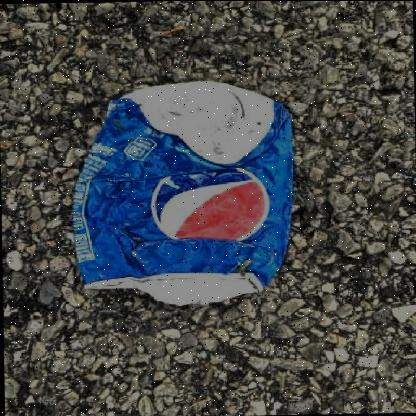Can: (74, 78, 292, 307)
